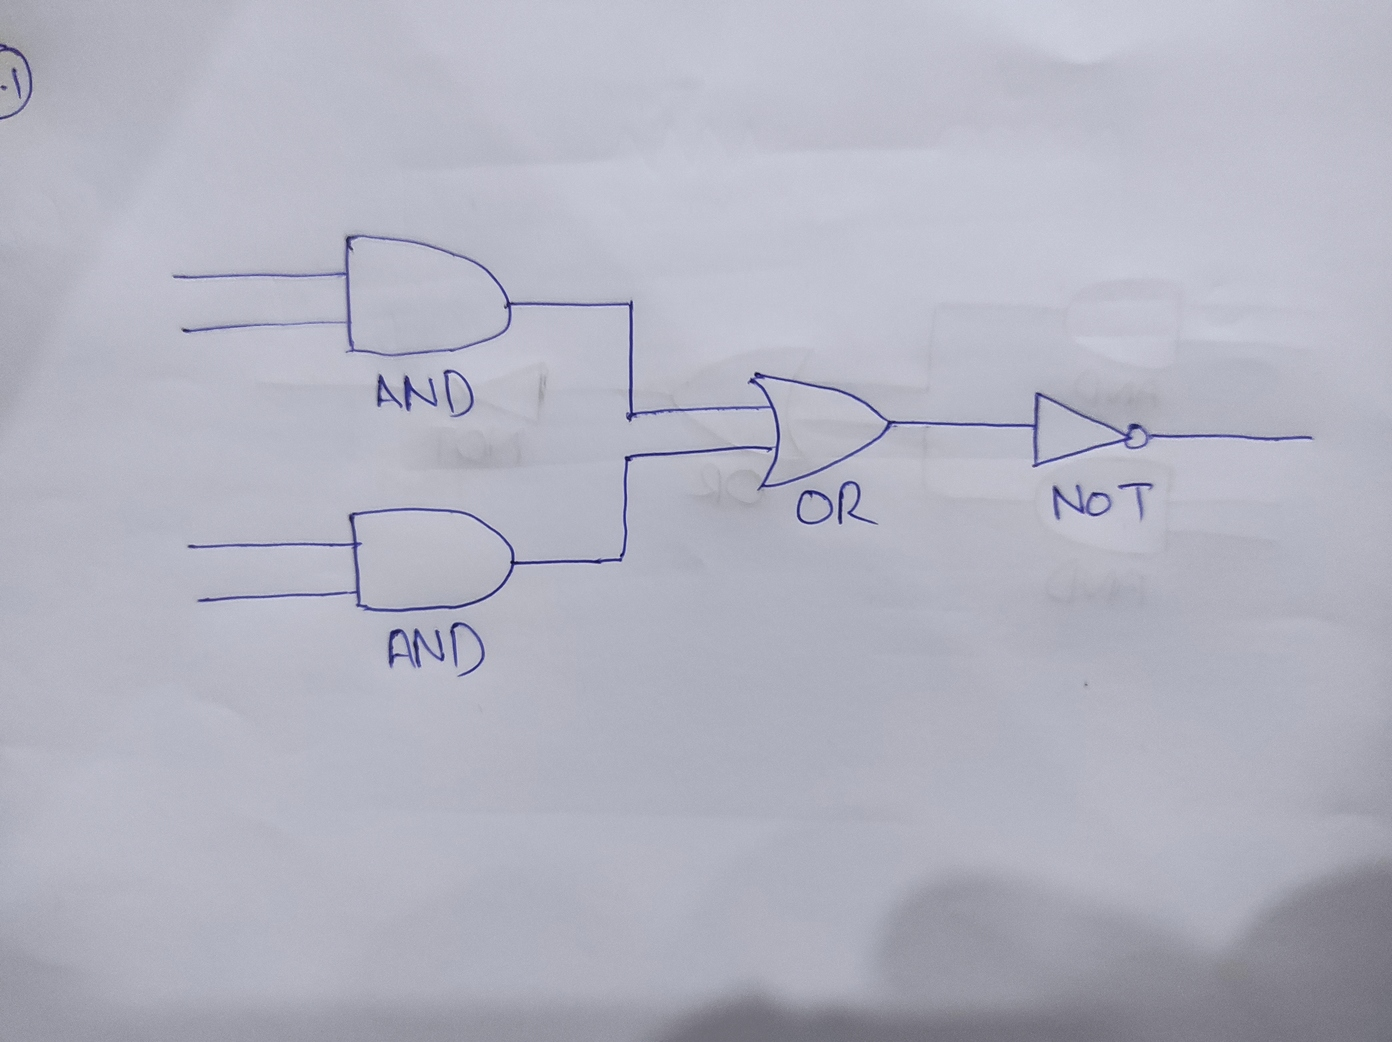and: (337, 229, 513, 361), (344, 505, 518, 616)
junction: (612, 543, 636, 574), (617, 291, 643, 315), (620, 405, 641, 428), (618, 447, 636, 467)
not: (1029, 387, 1157, 472)
or: (744, 368, 898, 493)
terminal: (1287, 427, 1329, 452), (173, 319, 198, 343), (186, 590, 212, 612), (165, 268, 190, 290), (179, 539, 200, 556)
text: (379, 620, 487, 684), (1051, 474, 1161, 525), (372, 368, 477, 419), (793, 481, 878, 528)
